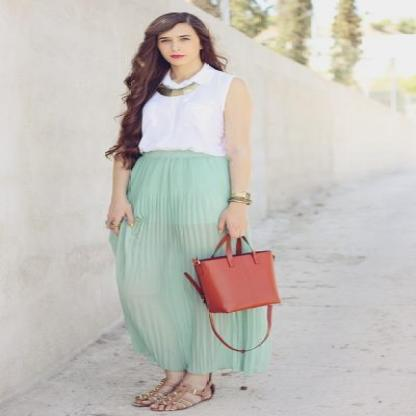bag: (184, 224, 280, 340)
shirt: (139, 64, 228, 155)
shoe: (137, 368, 211, 411)
skirt: (107, 148, 272, 383)
